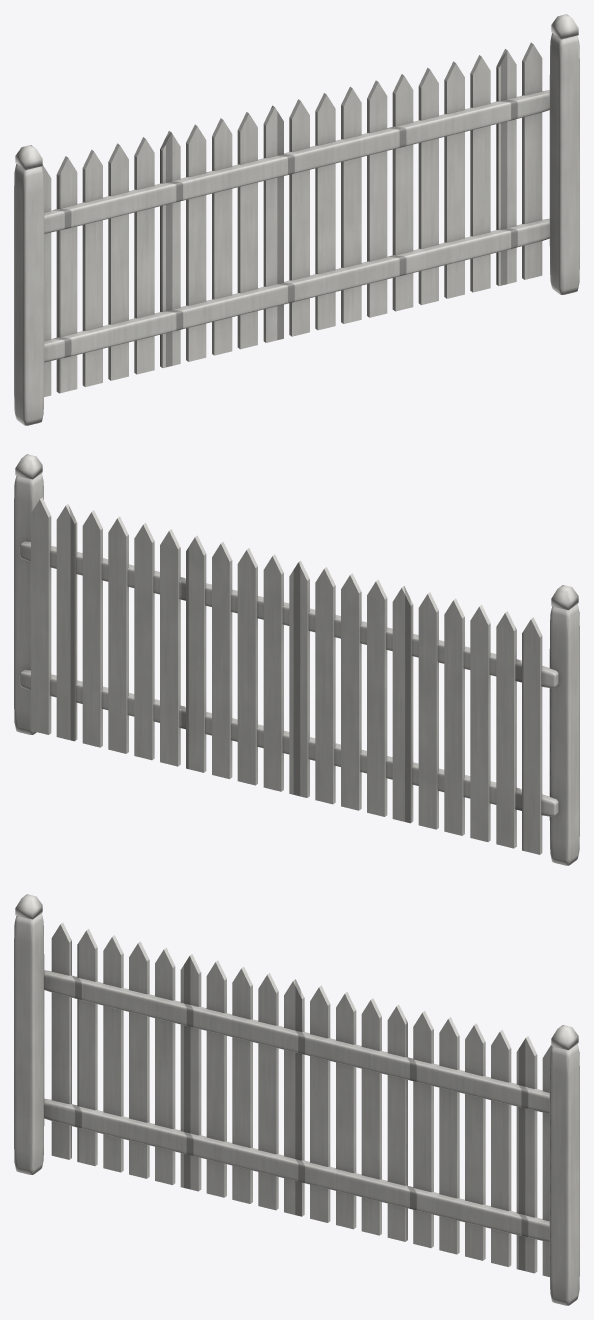
The model's file is white-picket.glb.
3 views of the same model, one above another, from view 1: azimuth 30°, elevation 25°; view 2: azimuth 150°, elevation 25°; view 3: azimuth 330°, elevation 25° (orthographic).
Visible parts, largest first — view 1: paint_primary; view 2: paint_primary; view 3: paint_primary.
Part boxes in pixels (x1,y1,x2,y2): paint_primary: (14,14,579,425); paint_primary: (14,454,579,865); paint_primary: (14,894,579,1305).
Bounding box in the file's own units: 2.49 × 1.18 × 0.135.
Materials: 1 (1 with a texture image).
